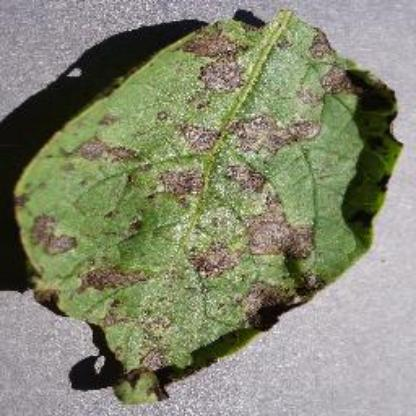Early-Blight: (5, 8, 406, 404)
